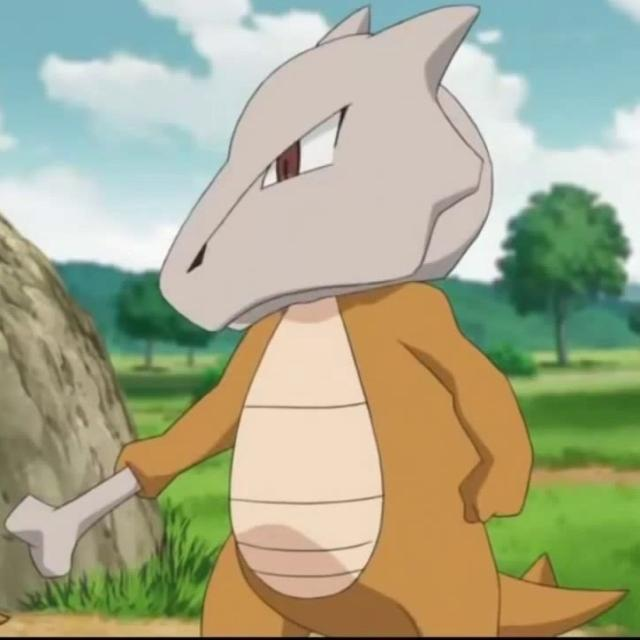Marowak: (102, 74, 558, 605)
